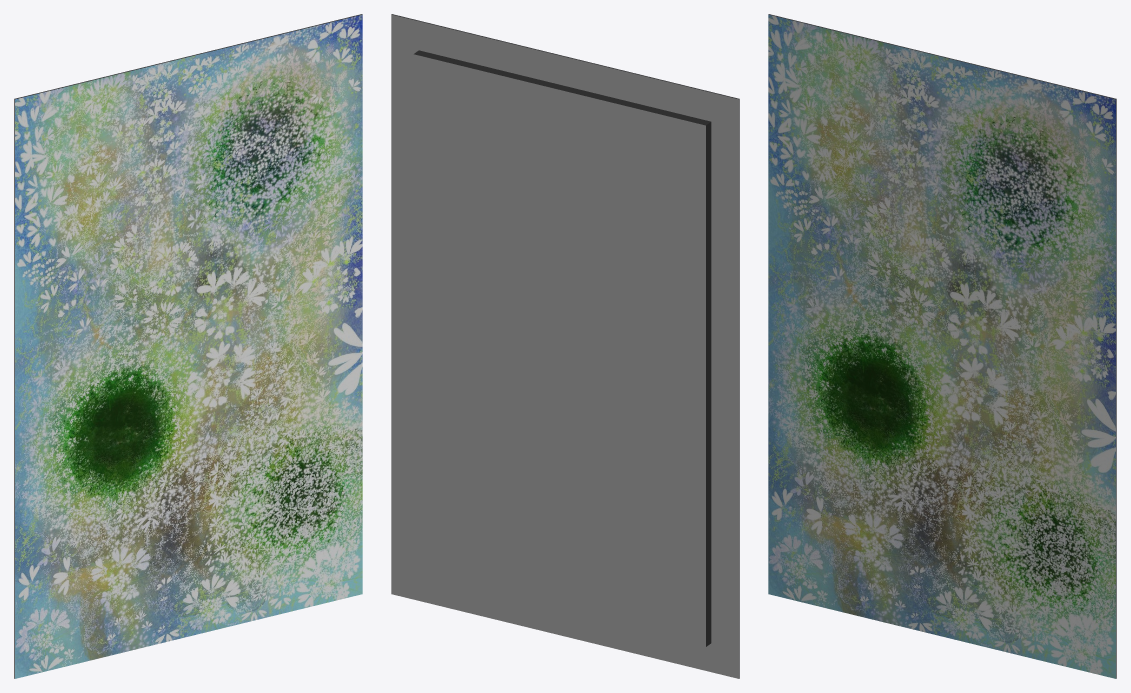
File: os032_grand_dibond.glb
The picture shows the model from 3 angles, left to right: view 1: azimuth 30°, elevation 25°; view 2: azimuth 150°, elevation 25°; view 3: azimuth 330°, elevation 25°; orthographic projection.
Visible parts, largest first — view 1: os032_grand_dibond; view 2: os032_grand_dibond; view 3: os032_grand_dibond.
Part boxes in pixels (left/top/right/bottom): os032_grand_dibond: left=14, top=14, right=362, bottom=678; os032_grand_dibond: left=391, top=14, right=739, bottom=678; os032_grand_dibond: left=768, top=14, right=1116, bottom=678.
Size of the model in its own units: 0.7537 by 1.2 by 0.023.
4 materials, 1 textured.
